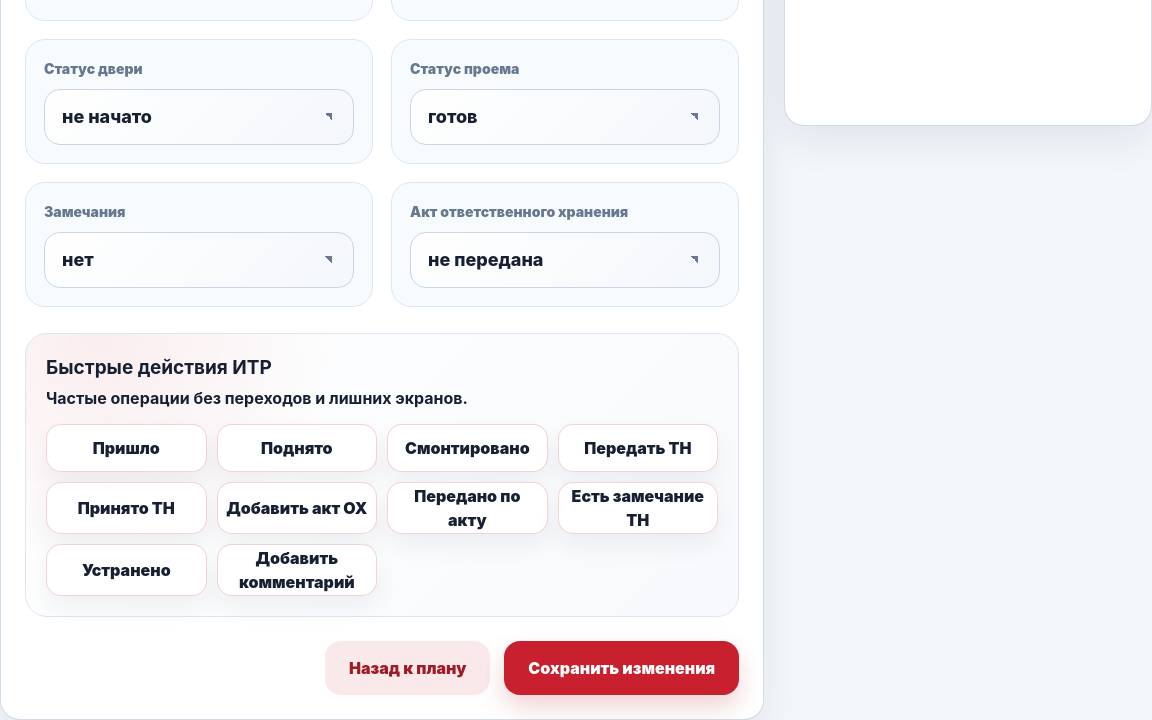
Test case: DoorDetails › keeps history visible and reports persistence failures
(page scrolled)
Click the button "Сохранить изменения".
click(622, 668)  # box [504, 641, 739, 695]
(page scrolled)
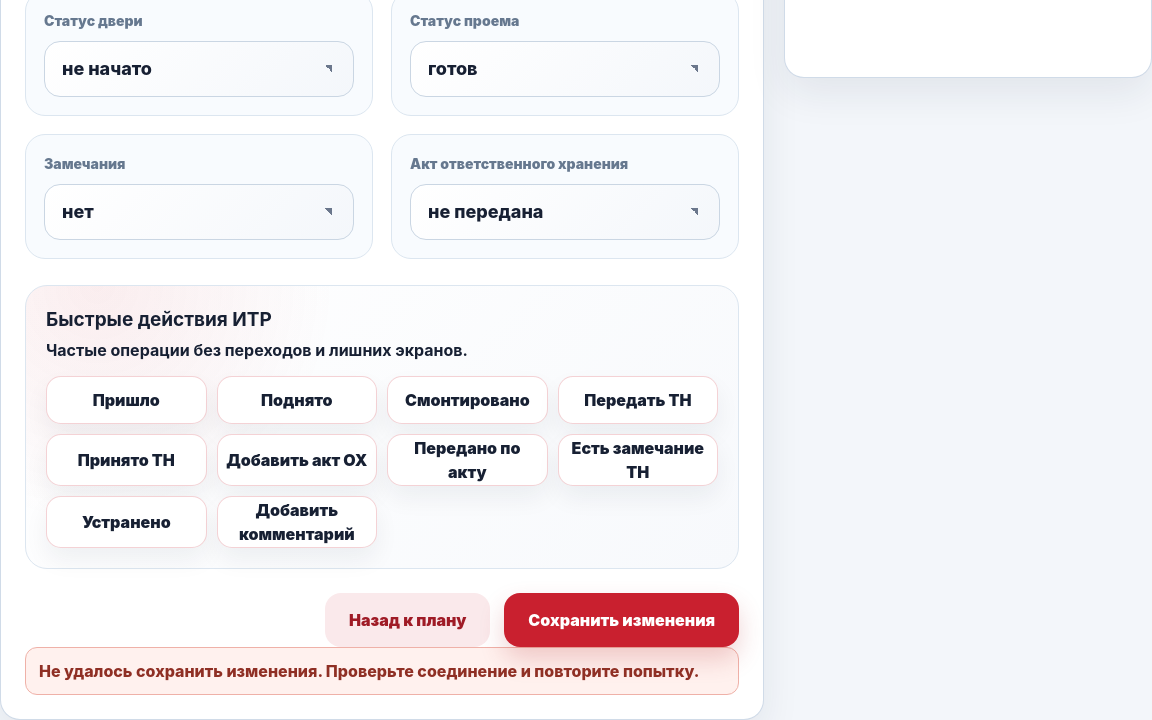
Expected: the message reads "Не удалось сохранить изменения. Проверьте соединение и повторите попытку.", [39, 661, 699, 681]
